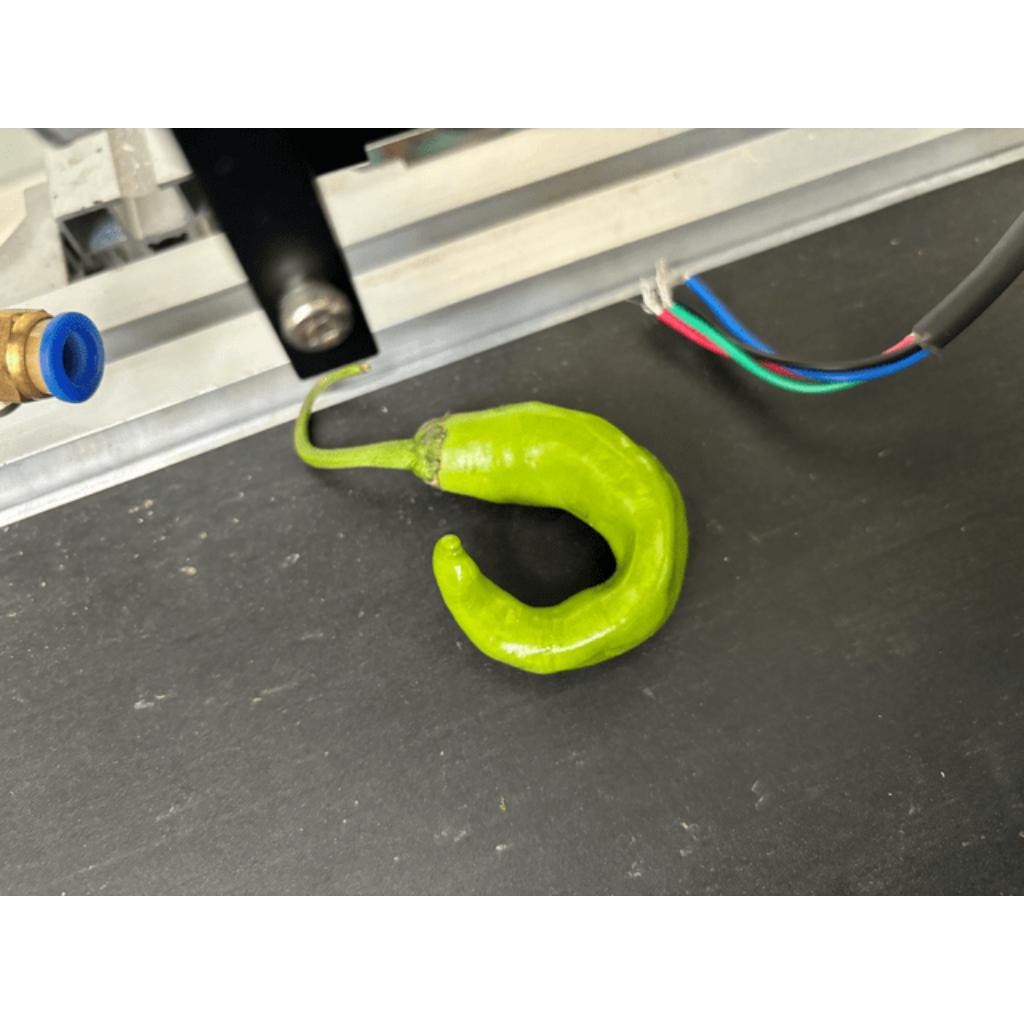chili: (409, 399, 691, 676)
